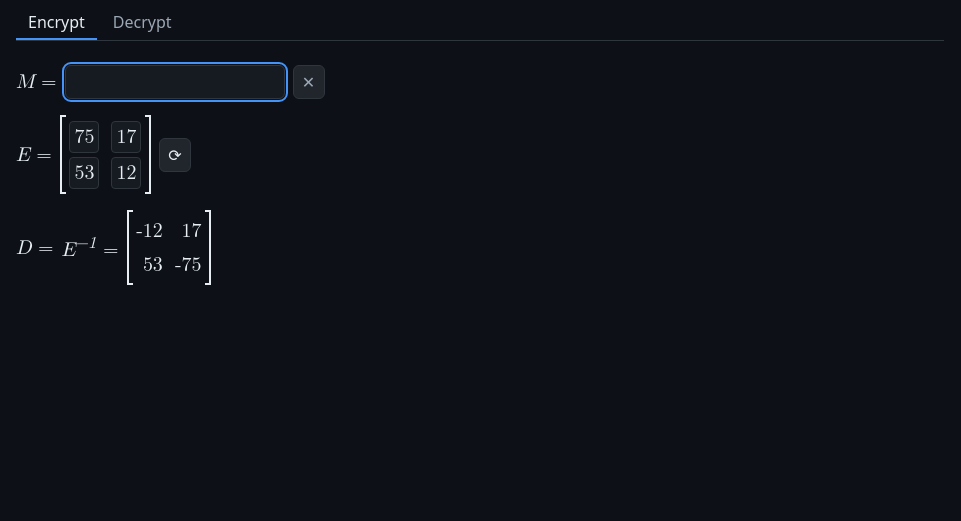
Test case: App › encrypts a message as C = ET and hands C to Decrypt
Type "Hi!" into the field named "Message".
click(174, 82); type("Hi!")  # box [64,65,284,99]
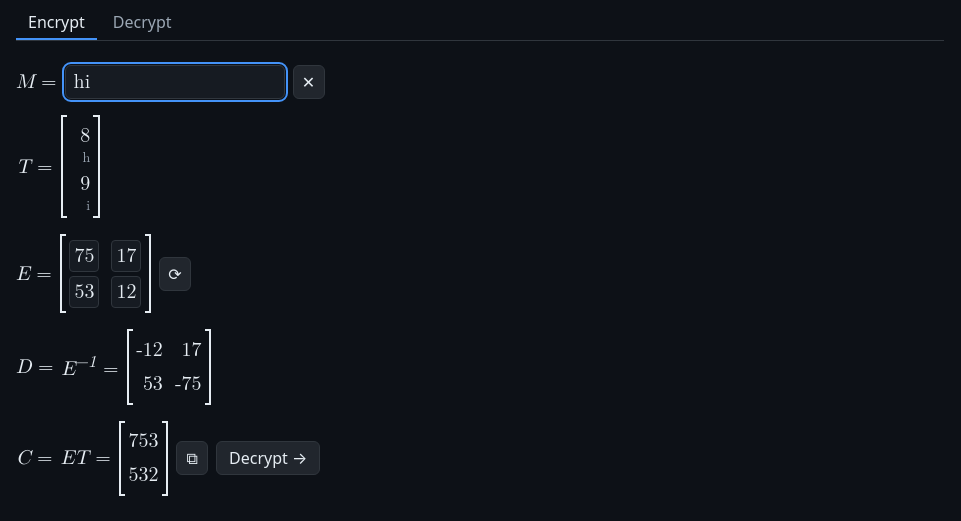
Expected: the field named "Message" holds "hi", [64,65,284,99]
Replace the text in the field named "E row 1 column 1" with "2" at (84,256), box [69,240,99,272]
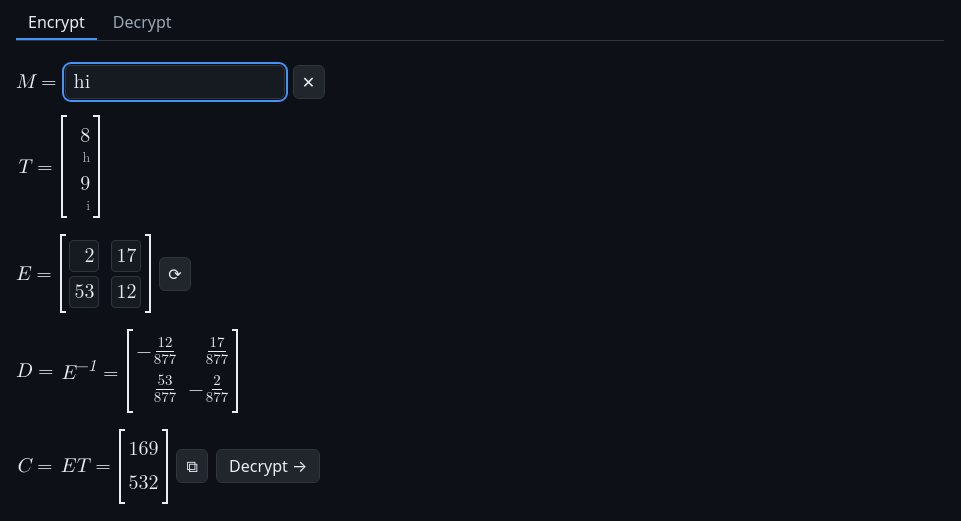
Replace the text in the field named "E row 1 column 2" with "1" at (126,256), box [111,240,141,272]
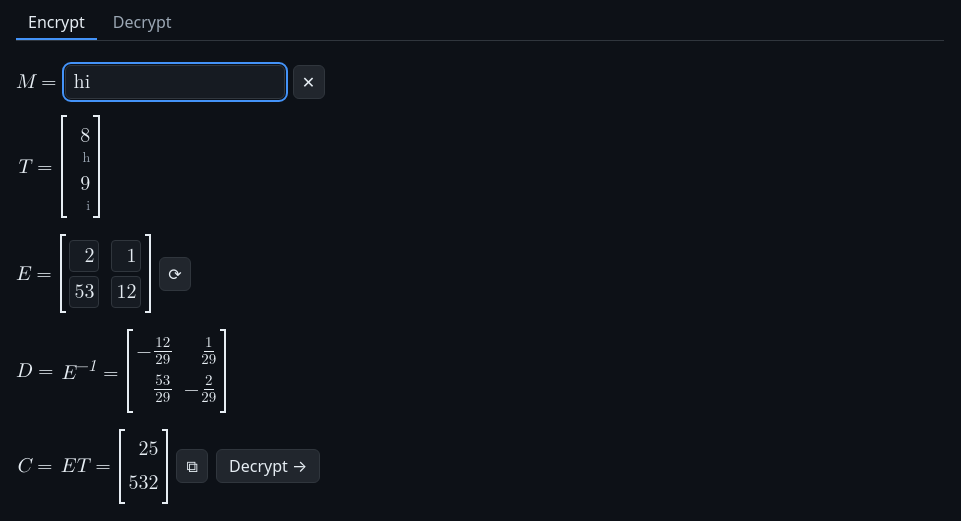
Replace the text in the field named "E row 2 column 1" with "1" at (84,292), box [69,276,99,308]
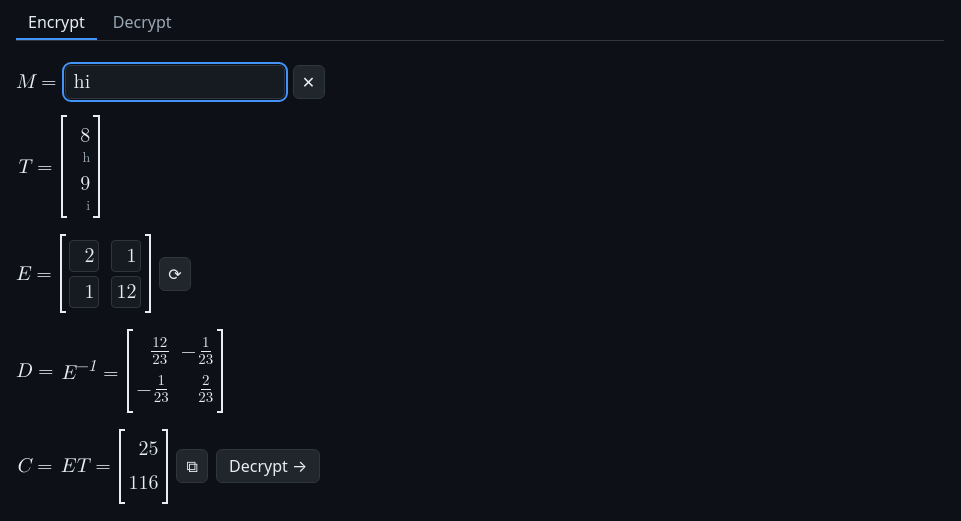
Replace the text in the field named "E row 2 column 2" with "1" at (126,292), box [111,276,141,308]
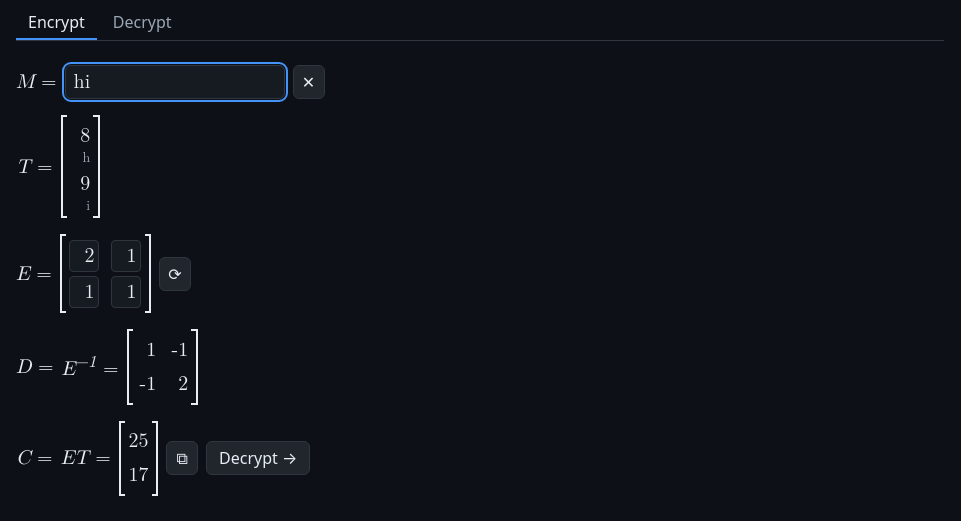
Click the button "Decrypt →".
click(258, 458)  # box [206,441,310,475]
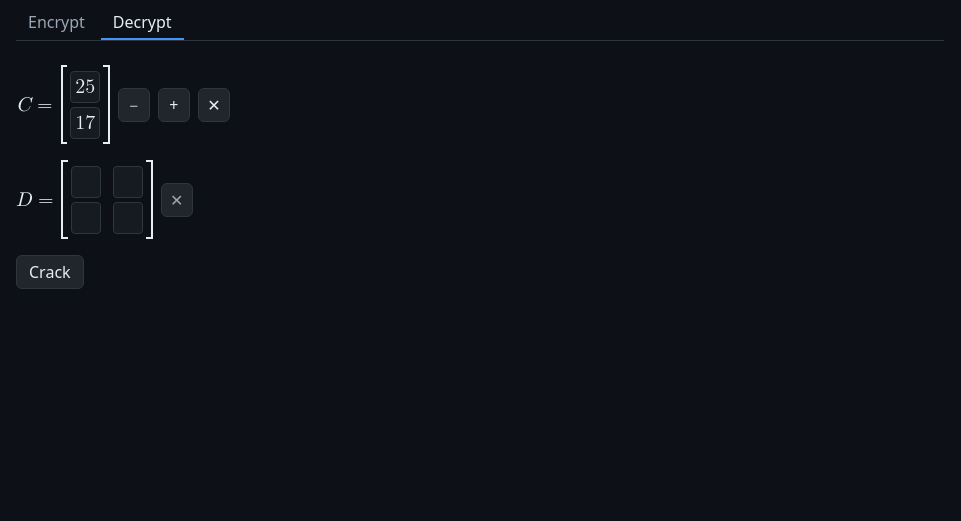
Expected: the field named "C row 1 column 1" holds "25", [70,71,100,103]
Expected: the button "Crack" is shown, [16,255,84,289]
